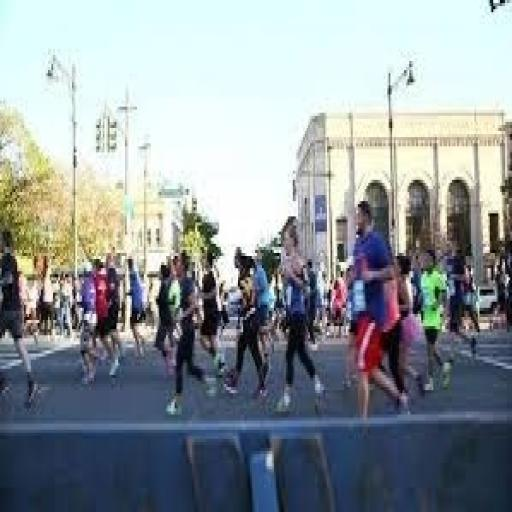running: (342, 195, 412, 433), (272, 214, 329, 418)
